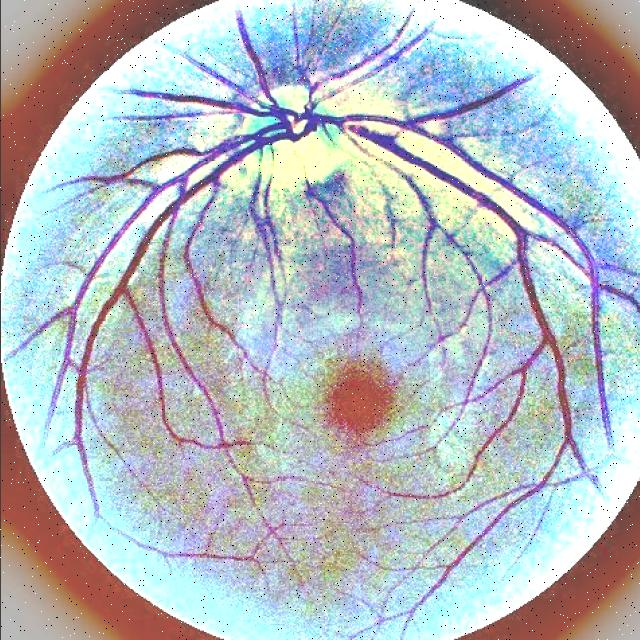Macula: (324, 360, 393, 434)
Nerves: (67, 31, 615, 475)
Optic Disk: (241, 86, 341, 174)
